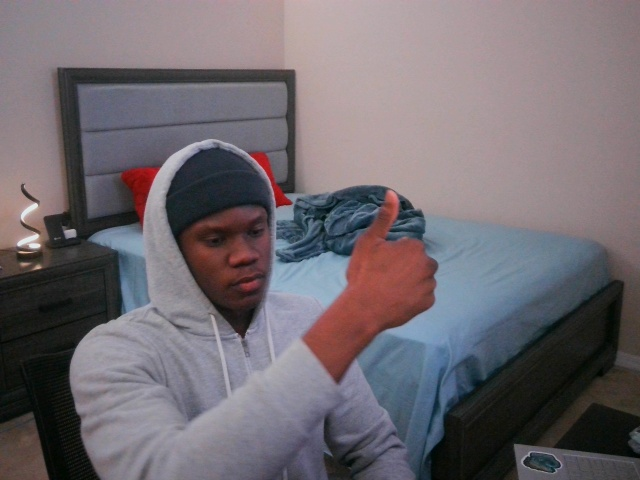ThumbsUp: (343, 187, 440, 340)
